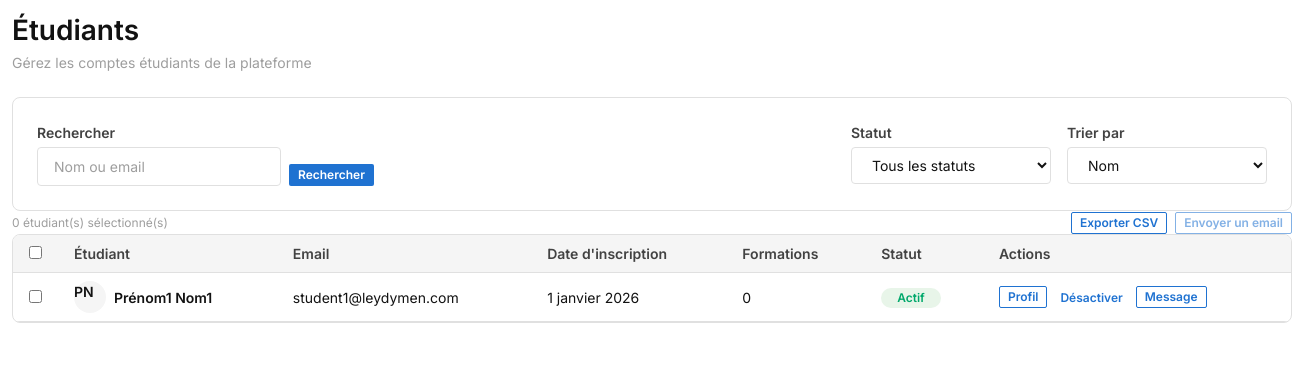
StudentListComponent › should deactivate a student and show a notice
Click the button "Désactiver".
click(1092, 298)  # box [1052,287,1132,309]
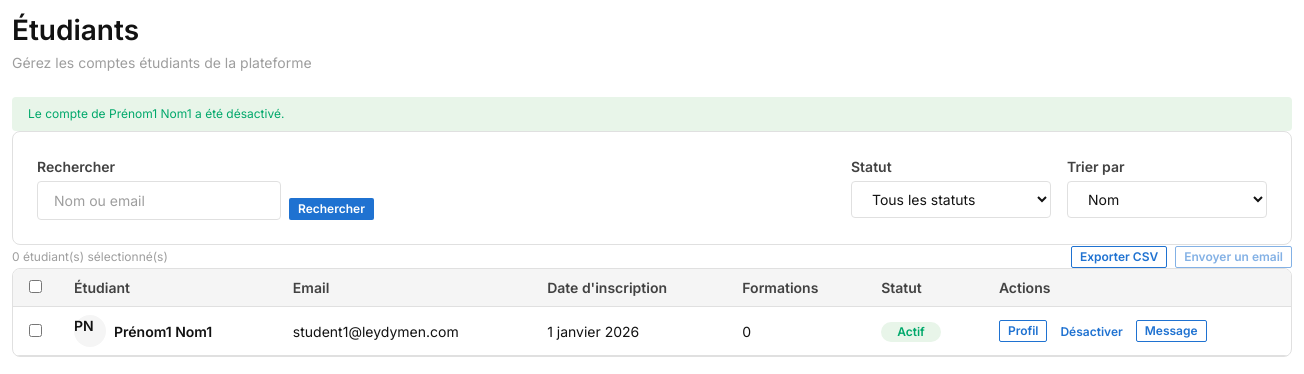
Expected: the text "a été désactivé" is shown, [28,106,284,121]
